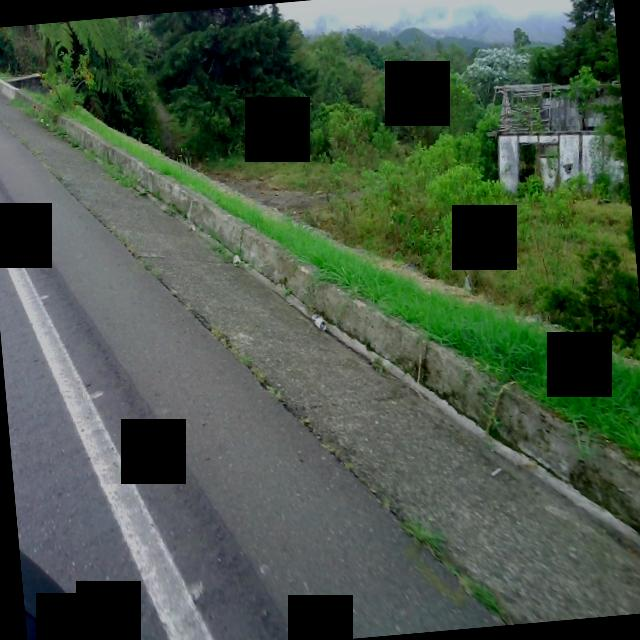DITCH: (0, 9, 640, 640), (0, 22, 640, 640), (0, 47, 640, 640)
